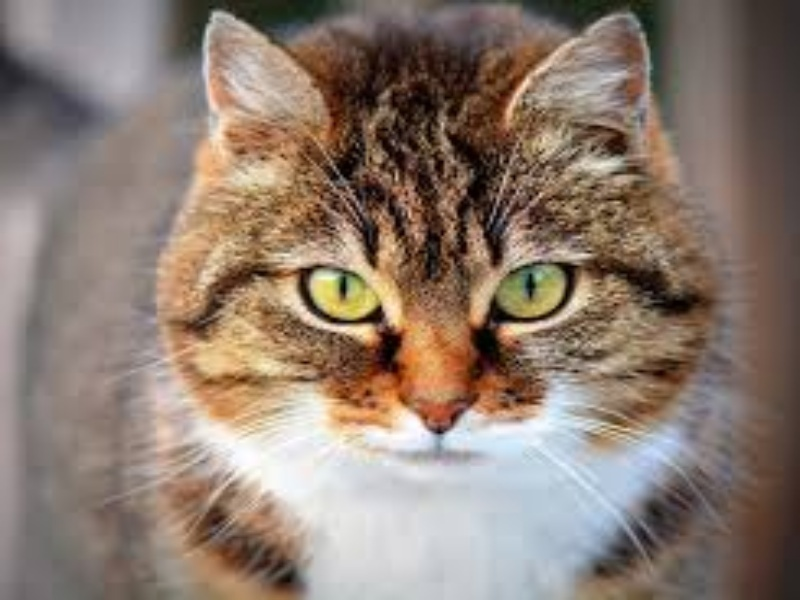cat: (43, 6, 742, 600)
